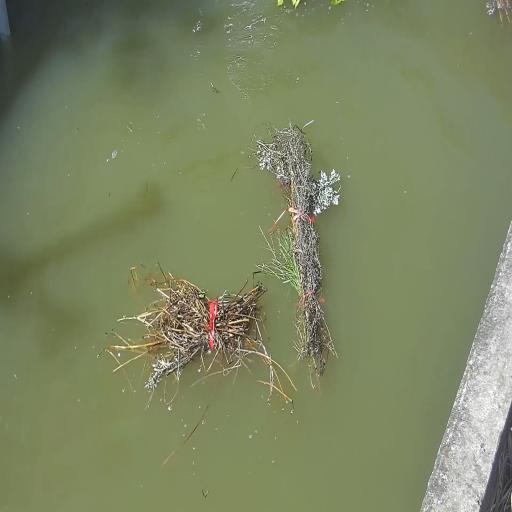twig: (261, 124, 340, 385), (142, 260, 270, 406), (267, 0, 350, 16), (481, 0, 512, 28)
